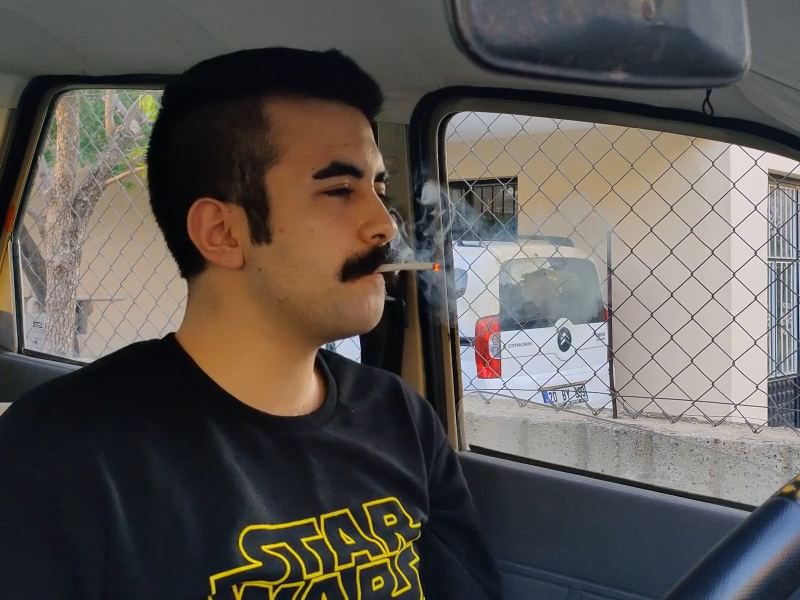sigara: (371, 260, 443, 275)
